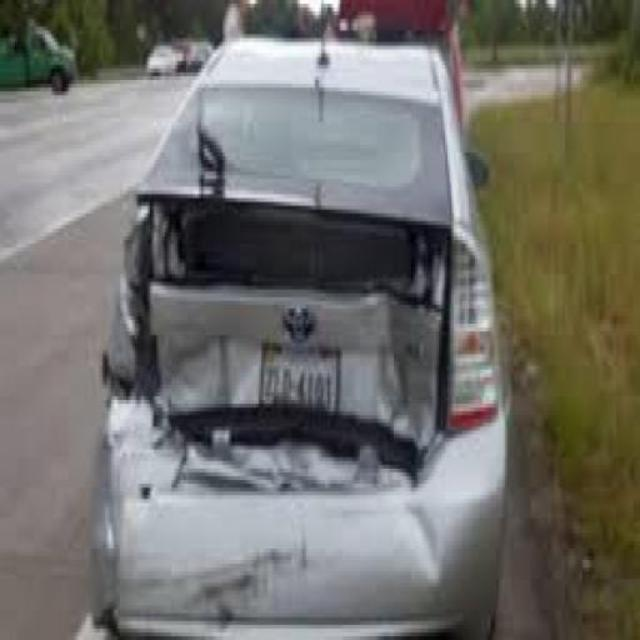crash: (102, 192, 503, 620)
